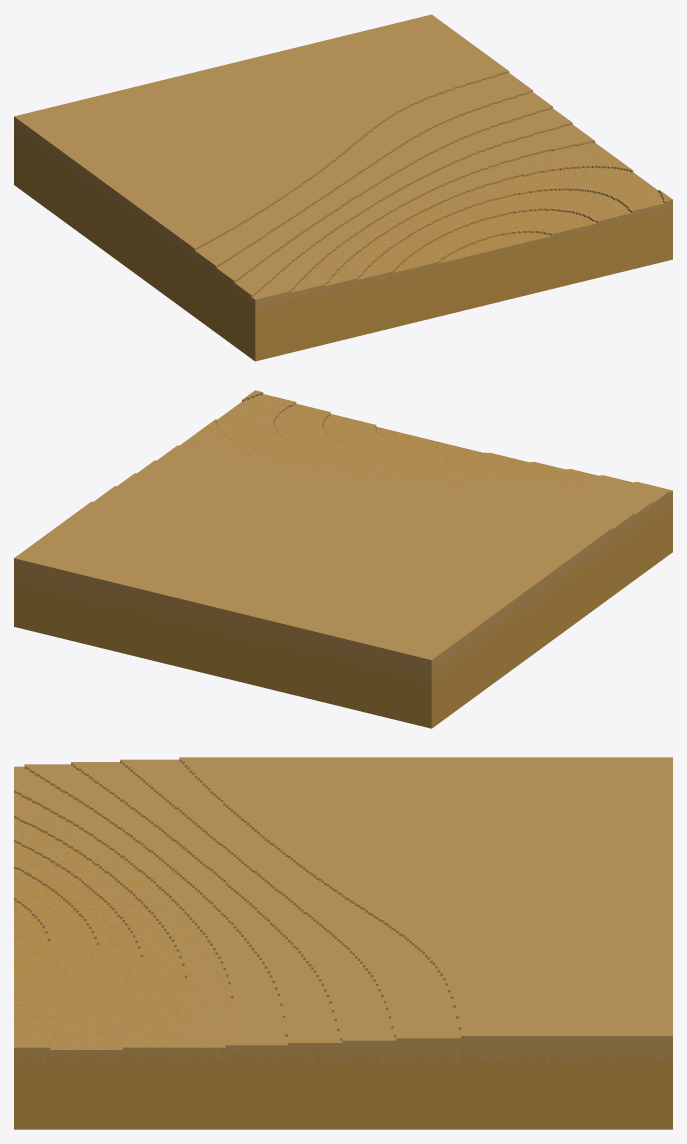
The model's file is Marte-5.obj.
3 views of the same model, one above another, from view 1: azimuth 30°, elevation 25°; view 2: azimuth 150°, elevation 25°; view 3: azimuth 270°, elevation 25° (orthographic). The views are drawn at different scales.
Bounding box in the file's own units: 25.5 × 4 × 25.5.
1 material, 1 textured.
